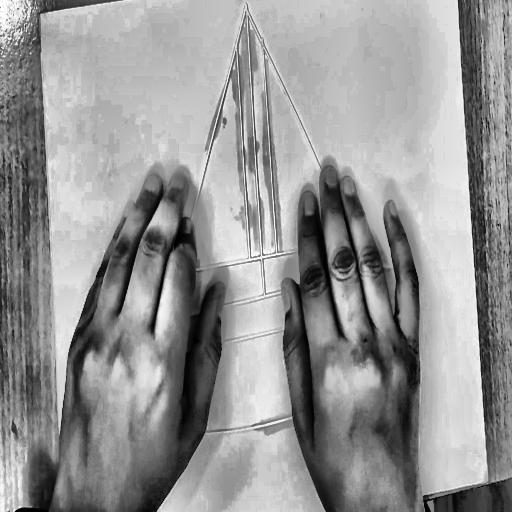boat: (108, 0, 423, 460)
bottom_right: (482, 472, 493, 488)
top_left: (36, 8, 45, 21)
